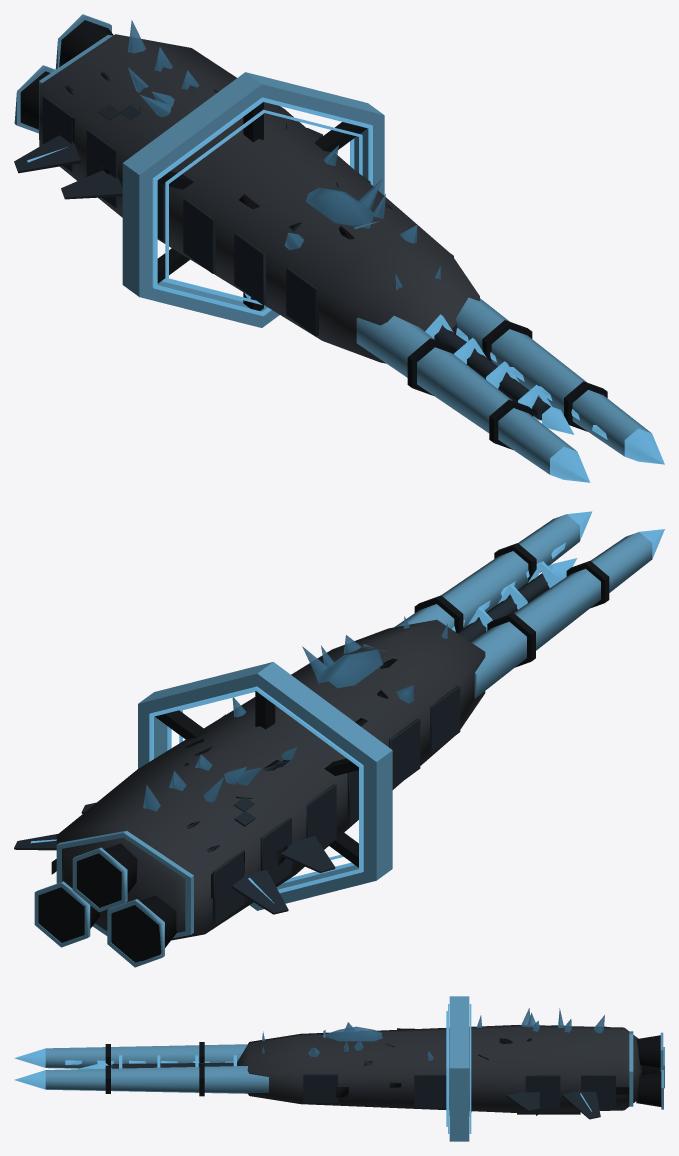
The model's file is kamerton-rezonanci-coalition-23-lod1.glb.
3 renders of one model, top to bottom at view 1: azimuth 30°, elevation 25°; view 2: azimuth 150°, elevation 25°; view 3: azimuth 270°, elevation 25°, orthographic. The views are drawn at different scales.
Size of the model in its own units: 9.23 by 7.78 by 31.58.
